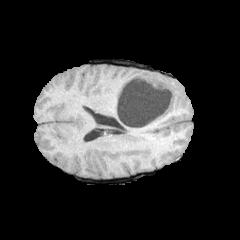glioma: (112, 74, 180, 136)
